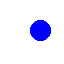circle: (30, 20, 50, 40)
